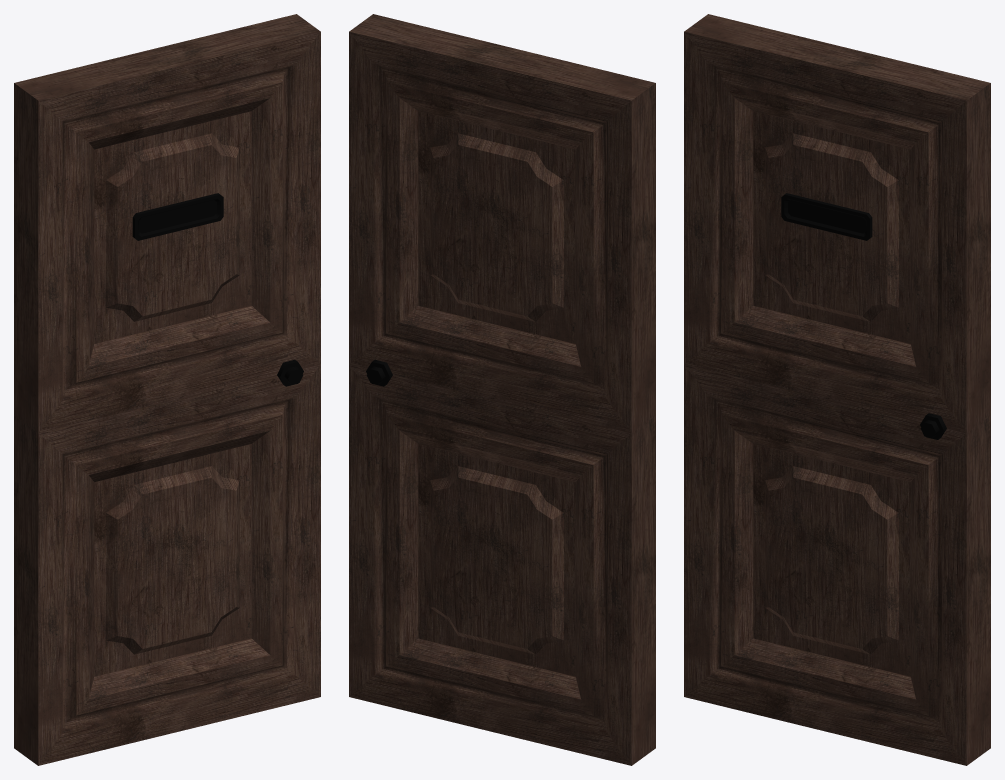
Rendered from SM_Door_Concierge.fbx.
3 views of the same model, side by side, from view 1: azimuth 30°, elevation 25°; view 2: azimuth 150°, elevation 25°; view 3: azimuth 330°, elevation 25° (orthographic).
Parts seen in each view (by area): view 1: SM_Door_Concierge; view 2: SM_Door_Concierge; view 3: SM_Door_Concierge.
Part boxes in pixels (x1,y1,x2,y2): SM_Door_Concierge: (14, 14, 320, 765); SM_Door_Concierge: (349, 14, 655, 765); SM_Door_Concierge: (684, 14, 990, 765).
Size of the model in its own units: 100 by 225 by 22.97.
